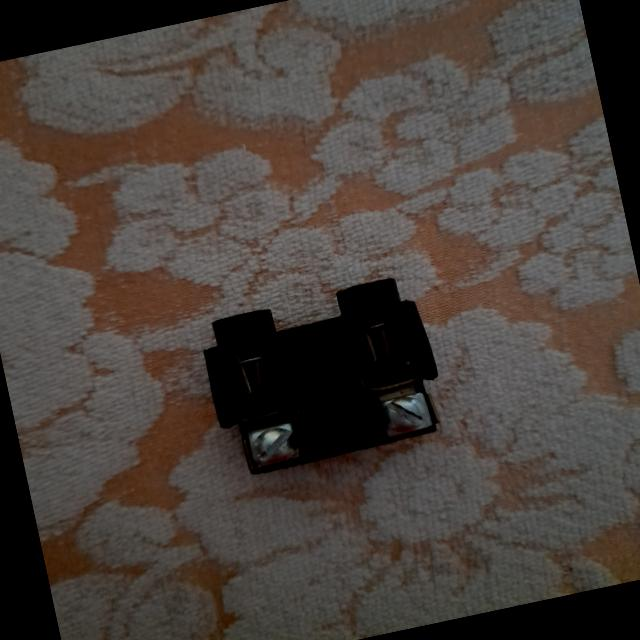Slotted: (377, 391, 431, 436), (247, 423, 300, 468)
